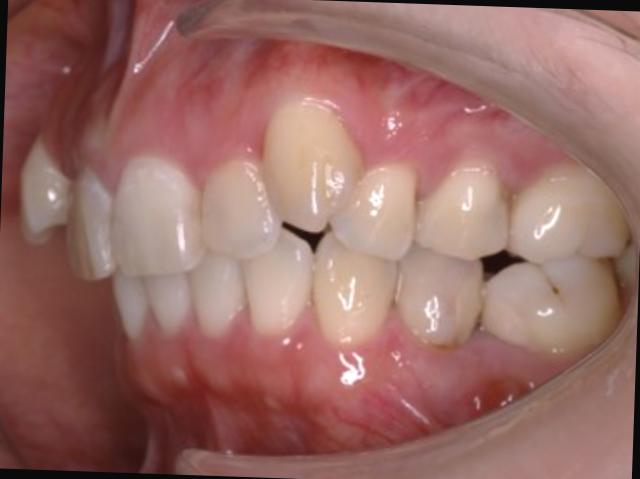canine class I: (238, 94, 402, 360)
molar class I: (481, 168, 635, 371)
